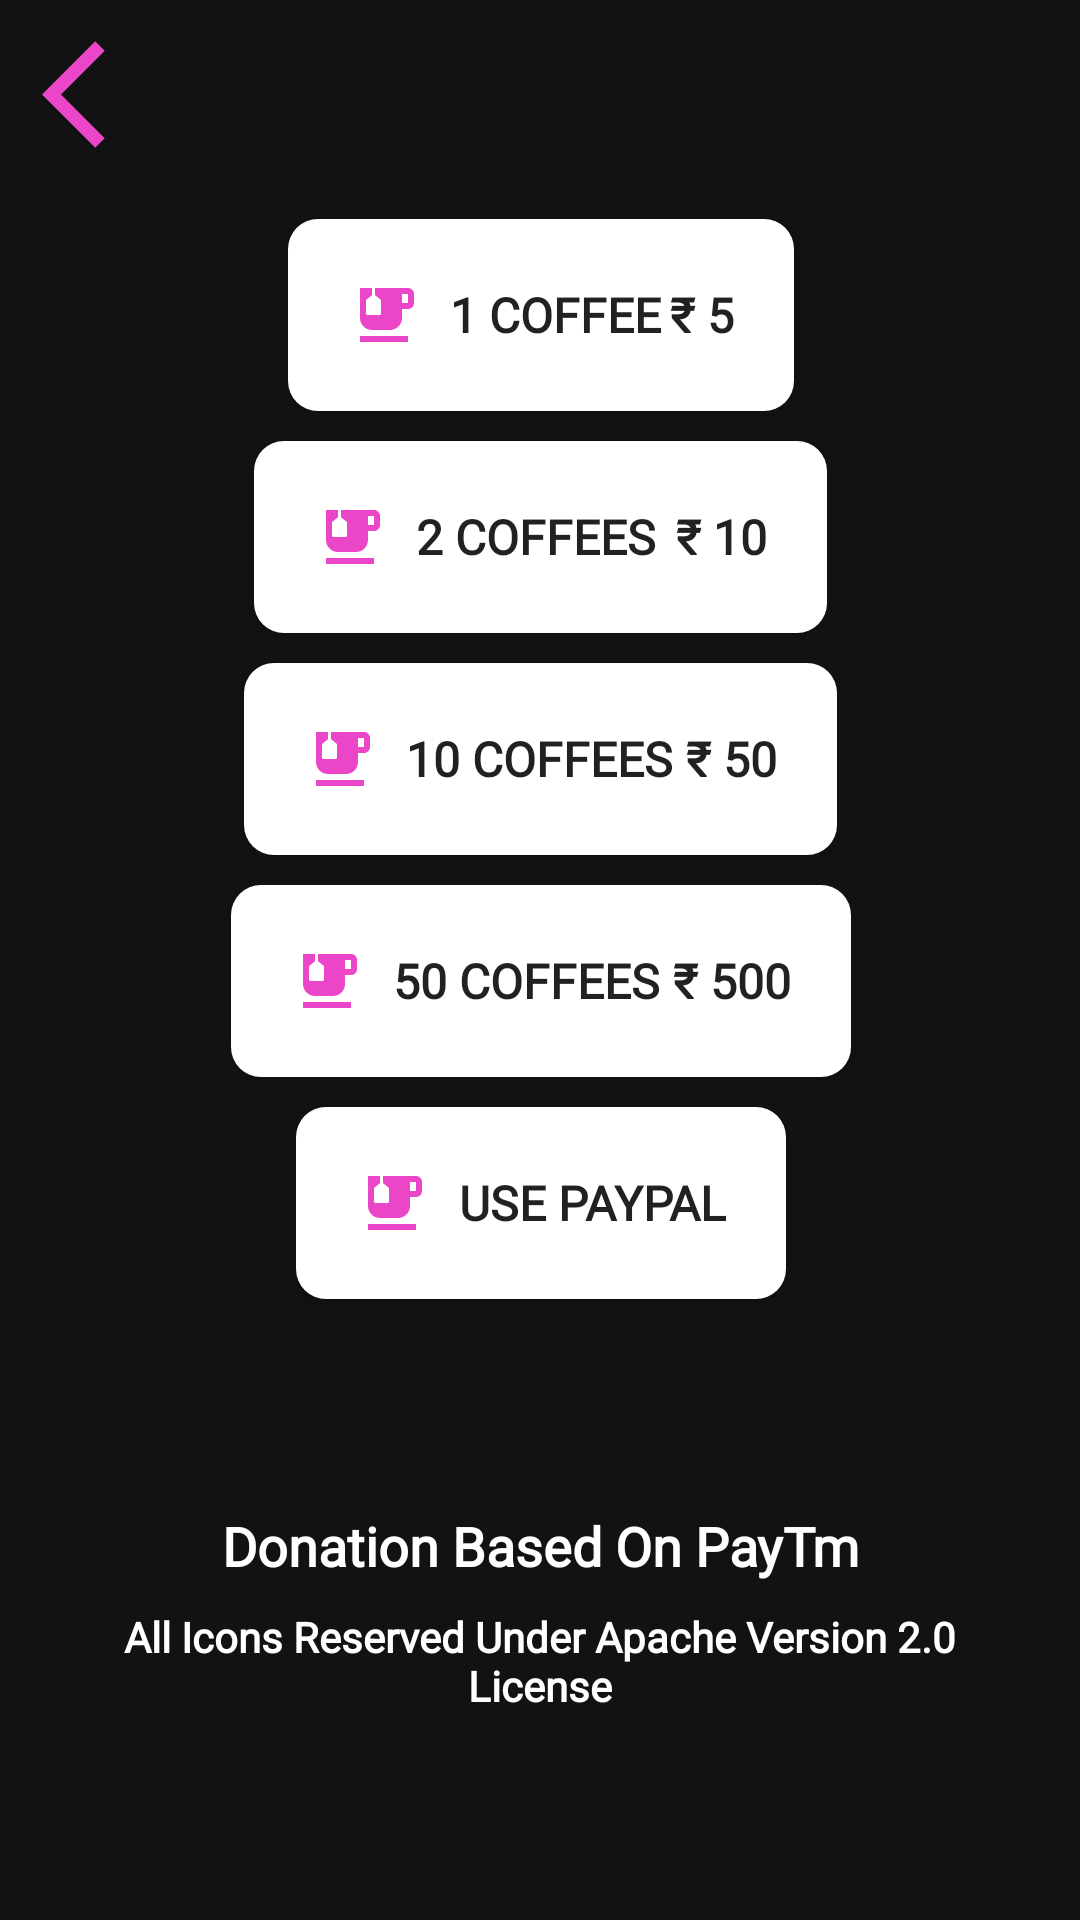

Point at icon controls on the screen. Image size 1080px×1920px, points as [x,y].
back: [73,94]
